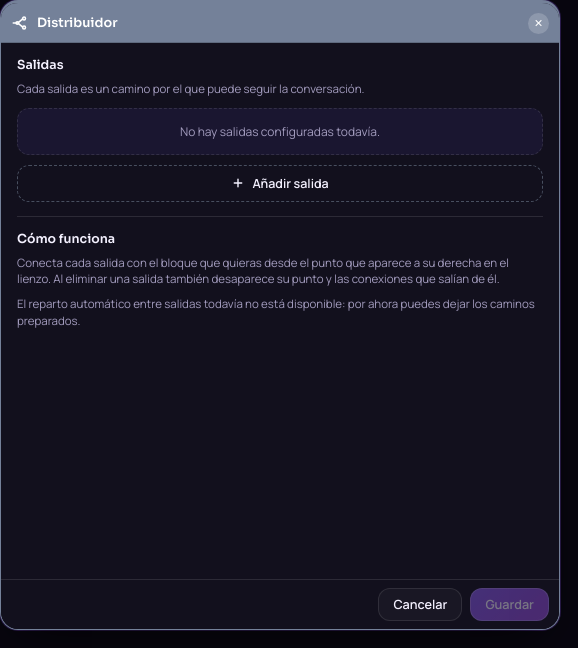
Test case: eliminar salidas › cada botón de eliminar dice a qué salida pertenece
The width and height of the screenshot is (578, 648).
Click the button "Añadir salida". click: (280, 183)
box: [17,165,543,202]
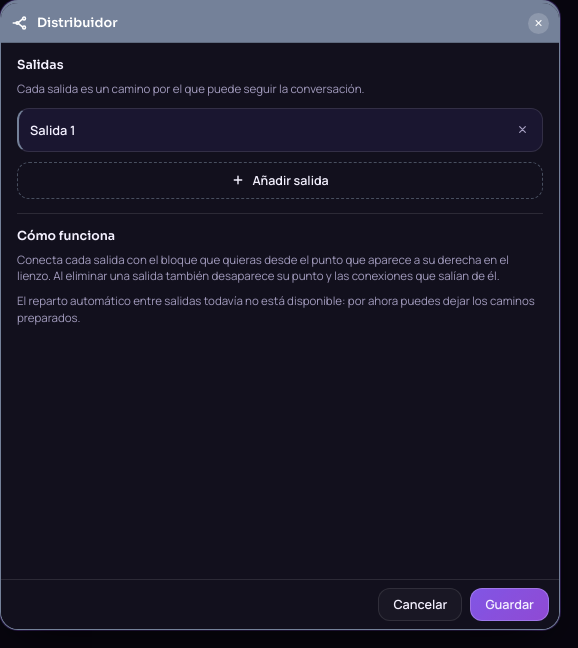
Click the button "Añadir salida". click: (280, 180)
box: [17,162,543,199]
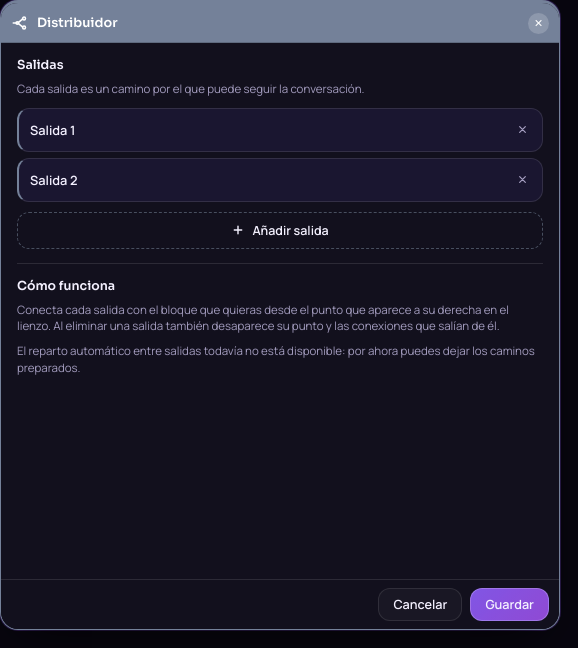
Result: the button named "Eliminar Salida 1" is shown at [510,118,534,142]
Result: the button named "Eliminar Salida 2" is shown at [510,168,534,192]
